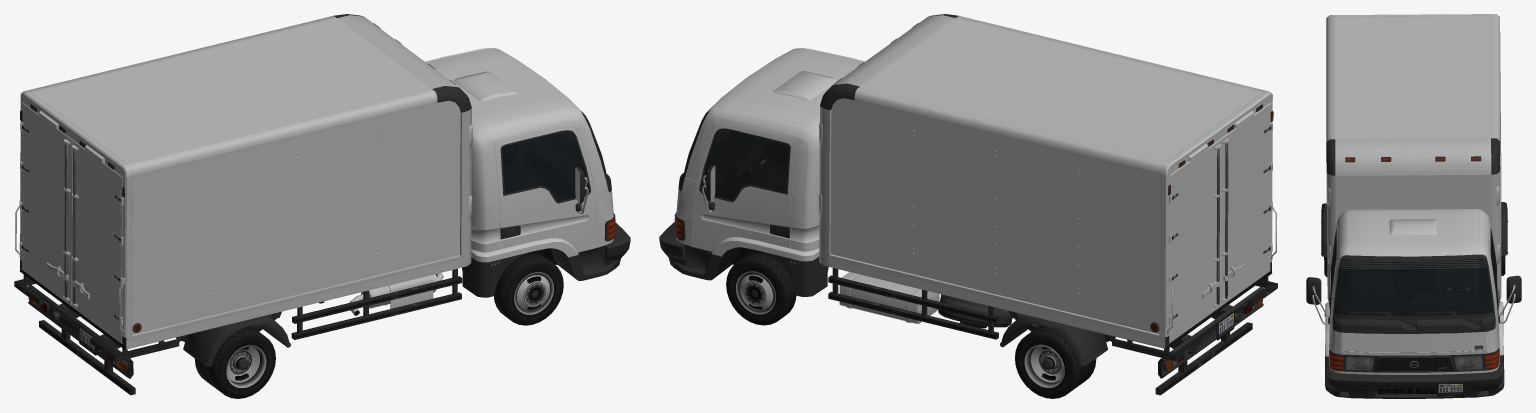
Rendered from lct_3000_95_-_low_poly_model.glb.
3 views of the same model, side by side, from view 1: azimuth 30°, elevation 25°; view 2: azimuth 150°, elevation 25°; view 3: azimuth 270°, elevation 25° (orthographic). The views are drawn at different scales.
Parts seen in each view (by area): view 1: LCT300095_Body_lct3000_Bodymat_0, LCT300095_Bottom_UCB_BOTTOM_0, LCT300095_Reardoor_Left_lct3000_Bodymat_0, LCT300095_Reardoor_Right_lct3000_Bodymat_0, LCT300095_Glass_Passenger_UCB_Lights_and_Glass_Transperent_0, LCT300095_Interior_UCB_Interiors_2_0, LCT300095_WheelStock_FR_RB1c_Tire_1k_0, LCT300095_WheelStock_RR_RB1c_Tire_1k_0, LCT300095_Bumper_rear_UCB_BOTTOM_0, LCT300095_Reardoor_Left_Inner_UCB_BOTTOM_0, LCT300095_Reardoor_Right_Inner_UCB_BOTTOM_0, LCT300095_Bumper_front_UCB_BOTTOM_0; view 2: LCT300095_Body_lct3000_Bodymat_0, LCT300095_Bottom_UCB_BOTTOM_0, LCT300095_Reardoor_Right_lct3000_Bodymat_0, LCT300095_Reardoor_Left_lct3000_Bodymat_0, LCT300095_Glass_Driver_UCB_Lights_and_Glass_Transperent_0, LCT300095_WheelStock_FL_RB1c_Tire_1k_0, LCT300095_WheelStock_RL_RB1c_Tire_1k_0, LCT300095_Interior_UCB_Interiors_2_0, LCT300095_Bumper_rear_UCB_BOTTOM_0, LCT300095_Reardoor_Right_Inner_UCB_BOTTOM_0, LCT300095_Reardoor_Left_Inner_UCB_BOTTOM_0, LCT300095_Bumper_front_UCB_BOTTOM_0; view 3: LCT300095_Body_lct3000_Bodymat_0, LCT300095_Bottom_UCB_BOTTOM_0, LCT300095_Windshield_UCB_Lights_and_Glass_Transperent_0, LCT300095_Interior_UCB_Interiors_2_0, LCT300095_Bumper_front_UCB_BOTTOM_0, LCT300095_Headlights_Glass_UCB_Lights_and_Glass_Transperent_, LCT300095_Headlights_UCB_Lights_and_Glass_0, LCT300095_Numberplate_front_Numberplates_Misk_U_0, LCT300095_Glass_Driver_UCB_Lights_and_Glass_Transperent_0.
Boxes of the visible parts, x1,y1,x2,y2 form: LCT300095_Body_lct3000_Bodymat_0: [19, 18, 613, 337]; LCT300095_Bottom_UCB_BOTTOM_0: [14, 14, 615, 395]; LCT300095_Reardoor_Left_lct3000_Bodymat_0: [22, 102, 72, 306]; LCT300095_Reardoor_Right_lct3000_Bodymat_0: [72, 140, 122, 343]; LCT300095_Glass_Passenger_UCB_Lights_and_Glass_Transperent_0: [502, 132, 589, 201]; LCT300095_Interior_UCB_Interiors_2_0: [503, 134, 605, 200]; LCT300095_WheelStock_FR_RB1c_Tire_1k_0: [494, 253, 563, 325]; LCT300095_WheelStock_RR_RB1c_Tire_1k_0: [195, 326, 275, 398]; LCT300095_Bumper_rear_UCB_BOTTOM_0: [28, 285, 133, 378]; LCT300095_Reardoor_Left_Inner_UCB_BOTTOM_0: [21, 125, 70, 300]; LCT300095_Reardoor_Right_Inner_UCB_BOTTOM_0: [71, 145, 122, 320]; LCT300095_Bumper_front_UCB_BOTTOM_0: [605, 223, 630, 273]; LCT300095_Body_lct3000_Bodymat_0: [676, 18, 1272, 336]; LCT300095_Bottom_UCB_BOTTOM_0: [674, 14, 1277, 395]; LCT300095_Reardoor_Right_lct3000_Bodymat_0: [1219, 103, 1270, 306]; LCT300095_Reardoor_Left_lct3000_Bodymat_0: [1169, 139, 1220, 343]; LCT300095_Glass_Driver_UCB_Lights_and_Glass_Transperent_0: [701, 130, 788, 200]; LCT300095_WheelStock_FL_RB1c_Tire_1k_0: [726, 252, 796, 325]; LCT300095_WheelStock_RL_RB1c_Tire_1k_0: [1015, 325, 1096, 398]; LCT300095_Interior_UCB_Interiors_2_0: [685, 132, 788, 199]; LCT300095_Bumper_rear_UCB_BOTTOM_0: [1158, 287, 1263, 378]; LCT300095_Reardoor_Right_Inner_UCB_BOTTOM_0: [1221, 125, 1271, 301]; LCT300095_Reardoor_Left_Inner_UCB_BOTTOM_0: [1169, 144, 1221, 319]; LCT300095_Bumper_front_UCB_BOTTOM_0: [659, 222, 685, 273]; LCT300095_Body_lct3000_Bodymat_0: [1325, 16, 1503, 374]; LCT300095_Bottom_UCB_BOTTOM_0: [1306, 14, 1521, 388]; LCT300095_Windshield_UCB_Lights_and_Glass_Transperent_0: [1334, 258, 1493, 316]; LCT300095_Interior_UCB_Interiors_2_0: [1331, 239, 1497, 315]; LCT300095_Bumper_front_UCB_BOTTOM_0: [1325, 366, 1503, 398]; LCT300095_Headlights_Glass_UCB_Lights_and_Glass_Transperent_: [1329, 349, 1499, 371]; LCT300095_Headlights_UCB_Lights_and_Glass_0: [1345, 355, 1483, 370]; LCT300095_Numberplate_front_Numberplates_Misk_U_0: [1438, 384, 1462, 394]; LCT300095_Glass_Driver_UCB_Lights_and_Glass_Transperent_0: [1491, 232, 1497, 309].
Size of the model in its own units: 6.02 by 2.85 by 2.61.
Materials: 8 (7 with a texture image).
